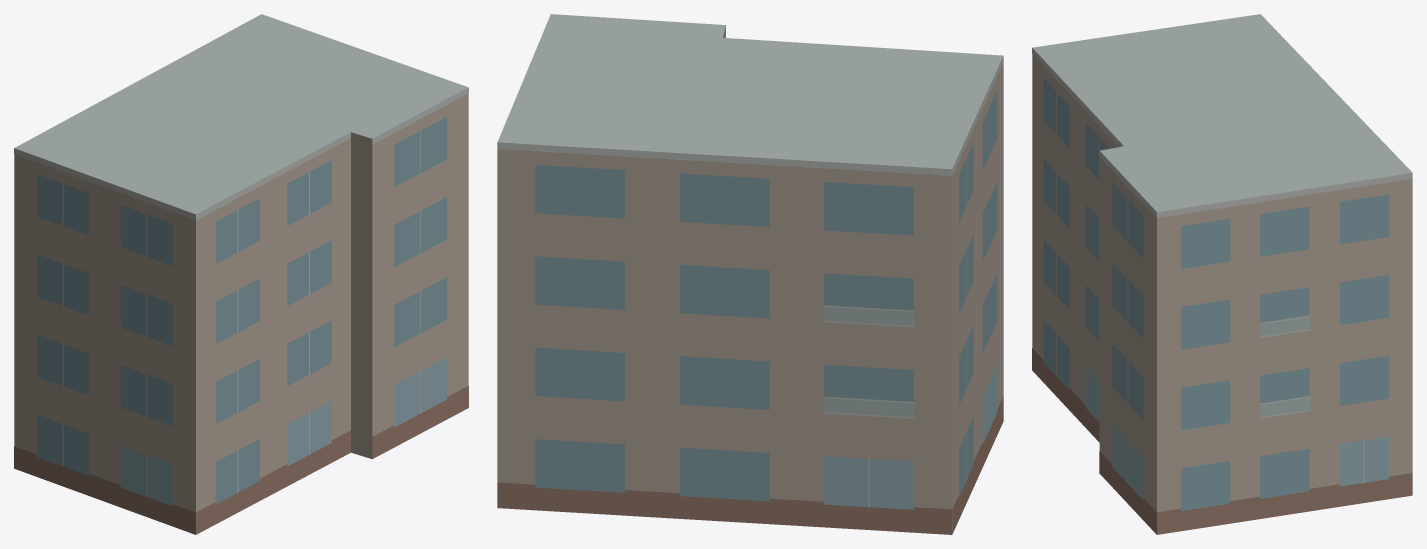
Rendered from survey-upis-32853627.glb.
3 renders of one model, left to right at view 1: azimuth 30°, elevation 25°; view 2: azimuth 150°, elevation 25°; view 3: azimuth 270°, elevation 25°, orthographic. The views are drawn at different scales.
Parts seen in each view (by area): view 1: survey-upis-32853627.tmp; view 2: survey-upis-32853627.tmp; view 3: survey-upis-32853627.tmp.
Boxes of the visible parts, <box> form: survey-upis-32853627.tmp: <box>14,14,468,534</box>; survey-upis-32853627.tmp: <box>497,14,1003,534</box>; survey-upis-32853627.tmp: <box>1032,14,1412,534</box>.
Size of the model in its own units: 17.32 by 13.15 by 14.06.
